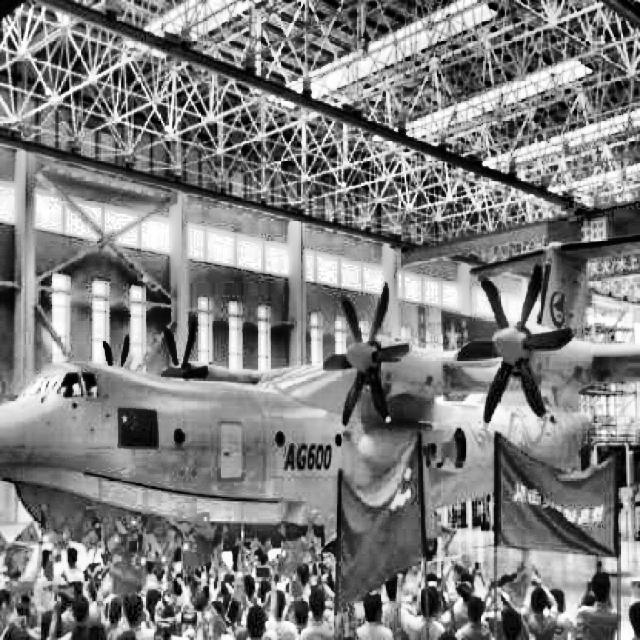AG600: (0, 235, 640, 559)
